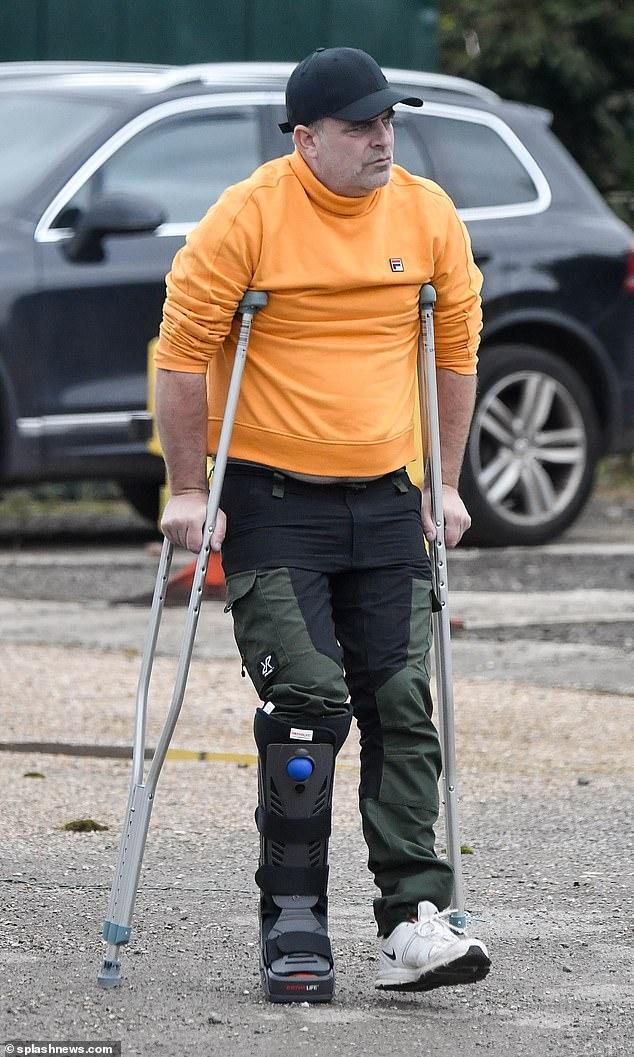crutches: (97, 47, 491, 1004)
